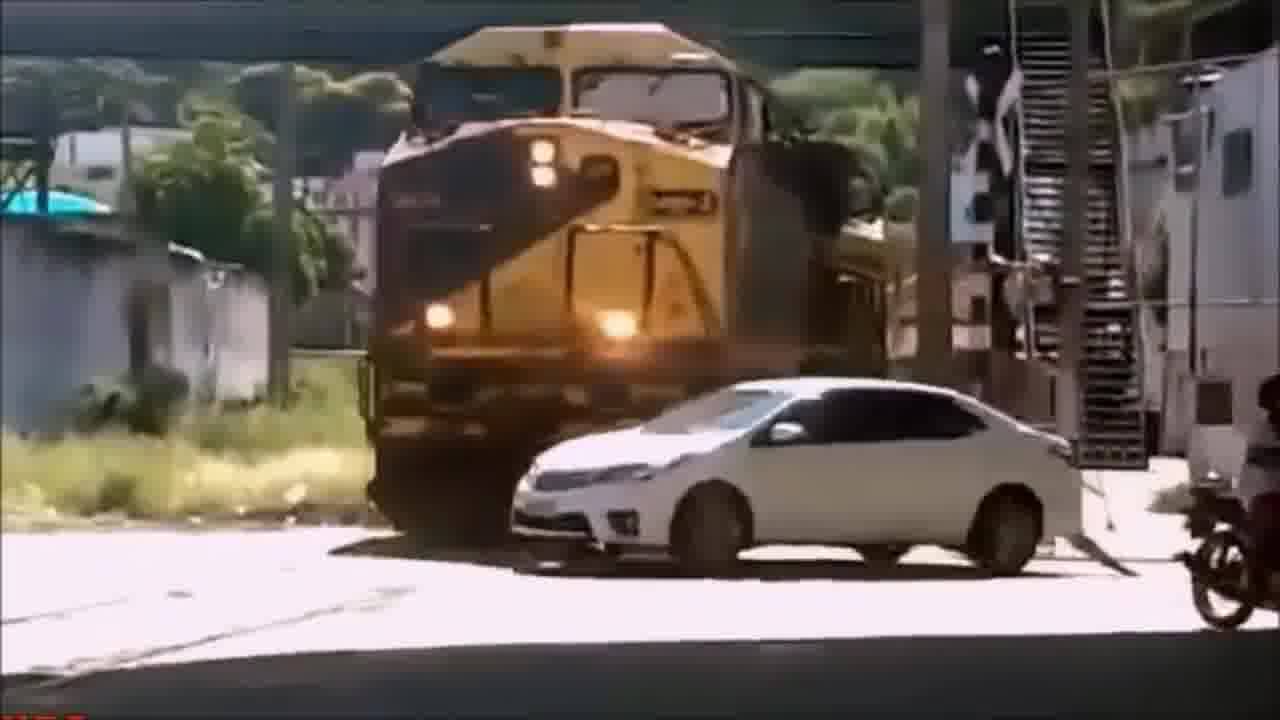crossing railway track: (454, 349, 1118, 588)
